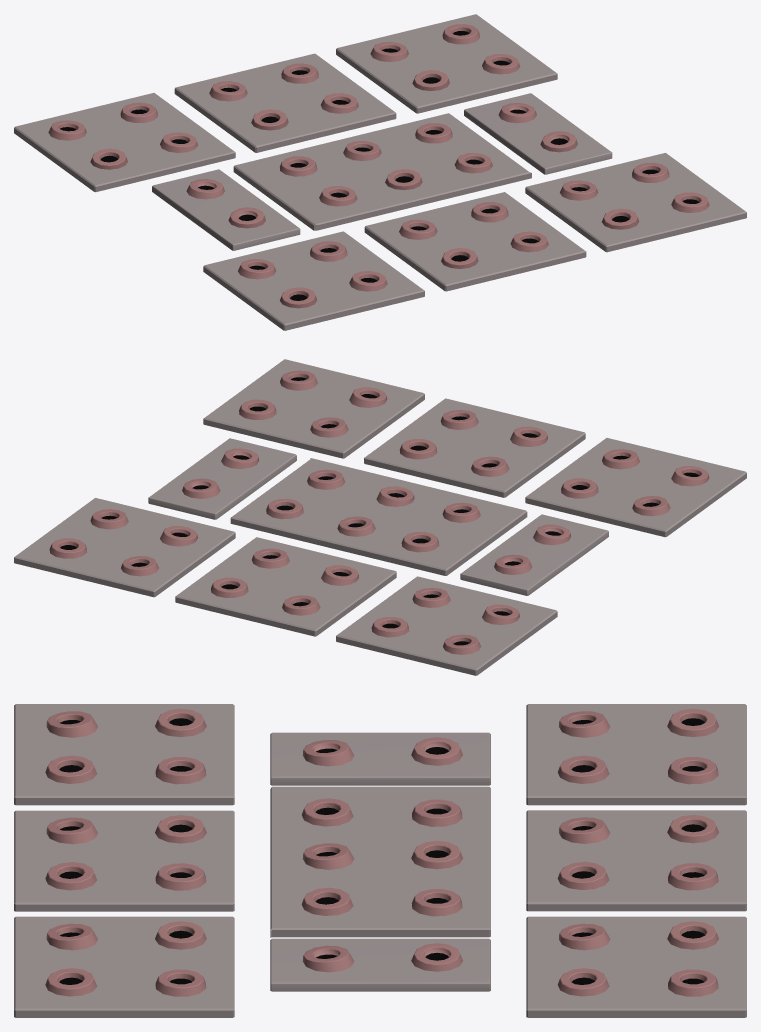
The model's file is spiketrap_base.fbx.
3 views of the same model, one above another, from view 1: azimuth 30°, elevation 25°; view 2: azimuth 150°, elevation 25°; view 3: azimuth 270°, elevation 25° (orthographic). The views are drawn at different scales.
Visible parts, largest first — view 1: polySurface118; view 2: polySurface118; view 3: polySurface118.
Part boxes in pixels (left/top/right/bottom): polySurface118: left=14, top=14, right=746, bottom=330; polySurface118: left=14, top=359, right=746, bottom=675; polySurface118: left=14, top=704, right=746, bottom=1017.
Bounding box in the file's own units: 182 × 4.97 × 184.
